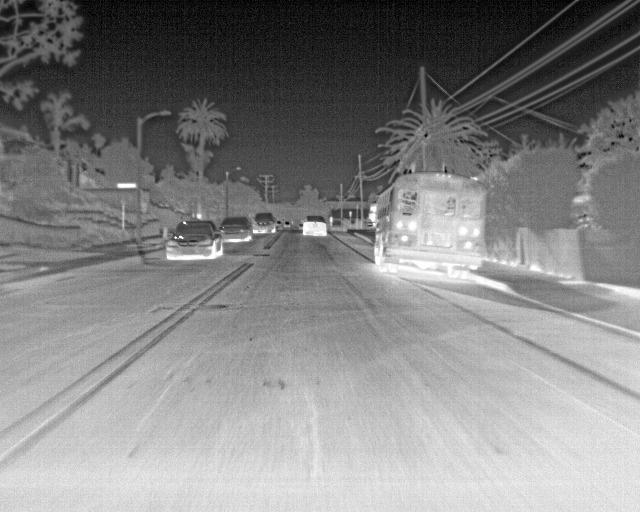car: (168, 219, 221, 259), (218, 214, 253, 241), (302, 214, 328, 235), (253, 210, 275, 233), (283, 220, 291, 229)
